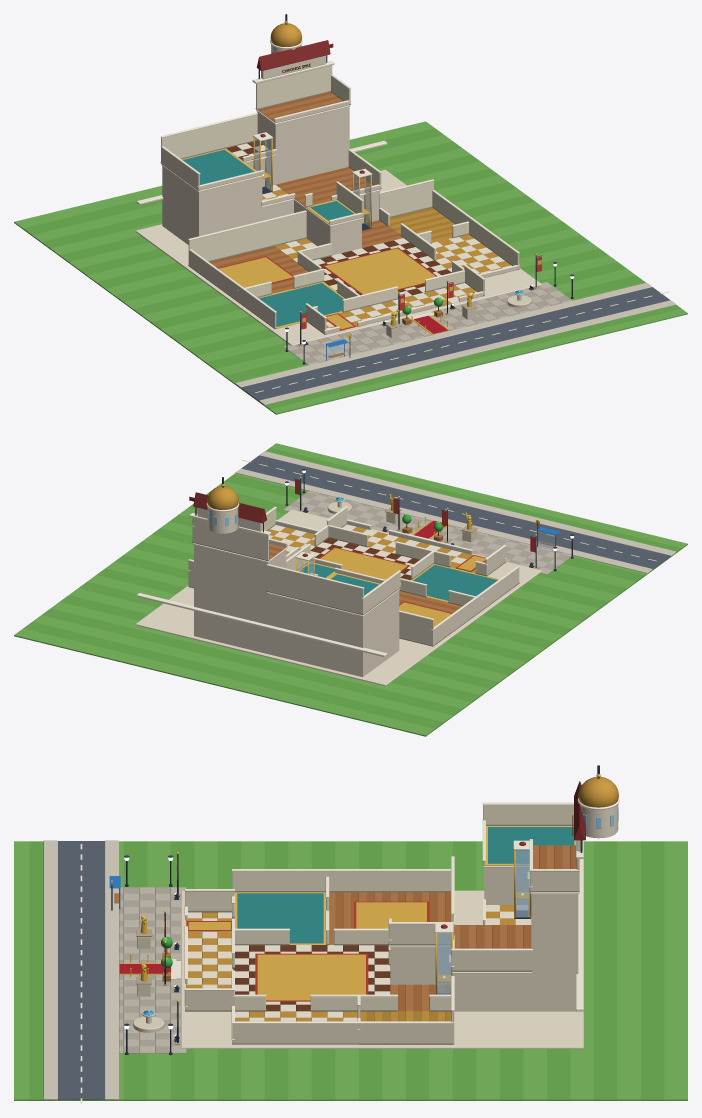
File: shell.glb
3 renders of one model, top to bottom at view 1: azimuth 30°, elevation 25°; view 2: azimuth 150°, elevation 25°; view 3: azimuth 270°, elevation 25°, orthographic. The views are drawn at different scales.
Visible parts, largest first — view 1: grounds, building, floor_floor_2, floor_floor_3, floor_floor_1, crown, grand_2, lift_floor_2, lift_floor_1, dome; view 2: grounds, building, floor_floor_2, floor_floor_3, crown, grand_2, floor_floor_1, dome, grand_4; view 3: grounds, building, floor_floor_1, floor_floor_3, floor_floor_2, crown, lift_floor_2, lift_floor_1, dome, grand_4, grand_3, grand_2.
Boxes of the visible parts, x1,y1,x2,y2 form: grounds: [14, 121, 687, 414]; building: [135, 169, 541, 345]; floor_floor_2: [160, 113, 276, 244]; floor_floor_3: [255, 65, 350, 184]; floor_floor_1: [261, 149, 381, 255]; crown: [136, 14, 387, 204]; grand_2: [298, 253, 542, 345]; lift_floor_2: [253, 132, 273, 194]; lift_floor_1: [352, 168, 372, 230]; dome: [270, 23, 302, 46]; grounds: [14, 443, 687, 736]; building: [135, 506, 541, 685]; floor_floor_2: [266, 564, 400, 677]; floor_floor_3: [192, 518, 287, 653]; crown: [136, 477, 387, 657]; grand_2: [294, 476, 538, 568]; floor_floor_1: [286, 543, 342, 578]; dome: [207, 486, 238, 509]; grand_4: [385, 494, 477, 542]; grounds: [14, 840, 687, 1103]; building: [171, 856, 583, 1048]; floor_floor_1: [388, 898, 532, 1011]; floor_floor_3: [529, 839, 579, 1011]; floor_floor_2: [482, 802, 575, 904]; crown: [572, 765, 619, 1011]; lift_floor_2: [513, 840, 531, 918]; lift_floor_1: [435, 923, 453, 994]; dome: [578, 776, 618, 807]; grand_4: [136, 916, 151, 996]; grand_3: [119, 892, 179, 1041]; grand_2: [161, 852, 179, 1044].
Size of the model in its own units: 39.7 by 15.92 by 43.
